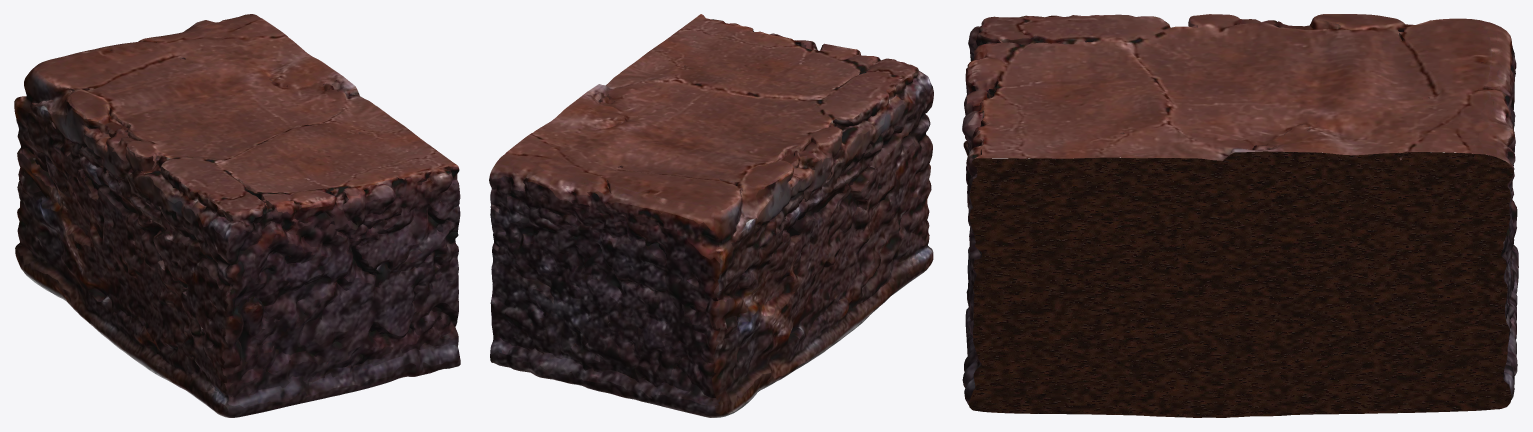
Rendered from chocolate-brownie-2.glb.
3 renders of one model, left to right at view 1: azimuth 30°, elevation 25°; view 2: azimuth 150°, elevation 25°; view 3: azimuth 270°, elevation 25°, orthographic. The views are drawn at different scales.
Parts seen in each view (by area): view 1: brownie-physical-calibration-80x35x65mm; view 2: brownie-physical-calibration-80x35x65mm; view 3: brownie-physical-calibration-80x35x65mm.
Part boxes in pixels (bbox=[...]): brownie-physical-calibration-80x35x65mm: bbox=[14, 14, 460, 417]; brownie-physical-calibration-80x35x65mm: bbox=[489, 14, 933, 417]; brownie-physical-calibration-80x35x65mm: bbox=[962, 14, 1518, 417].
Bounding box in the file's own units: 0.04 × 0.0346 × 0.065.
2 materials, 2 textured.
